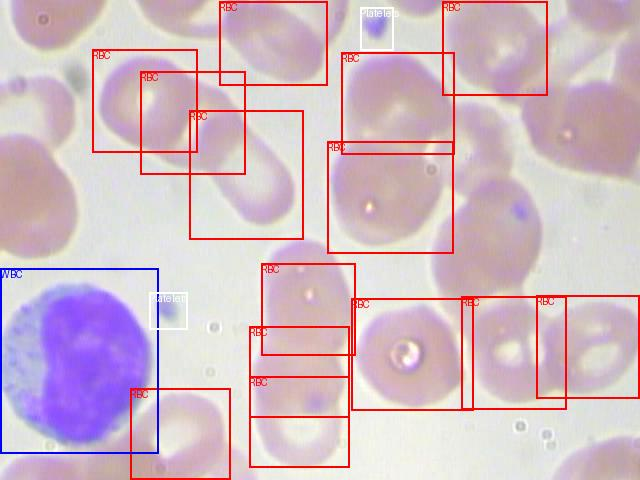Platelets: (360, 7, 393, 50), (149, 292, 187, 329)
RBC: (189, 110, 303, 239), (327, 141, 453, 253), (351, 298, 473, 410), (461, 296, 566, 409), (341, 52, 454, 154), (92, 49, 197, 152), (140, 71, 245, 174), (536, 295, 639, 398), (442, 1, 547, 95), (249, 326, 349, 417), (249, 376, 349, 467), (130, 388, 230, 479), (219, 1, 327, 85), (261, 263, 355, 355)
WBC: (0, 268, 158, 453)
